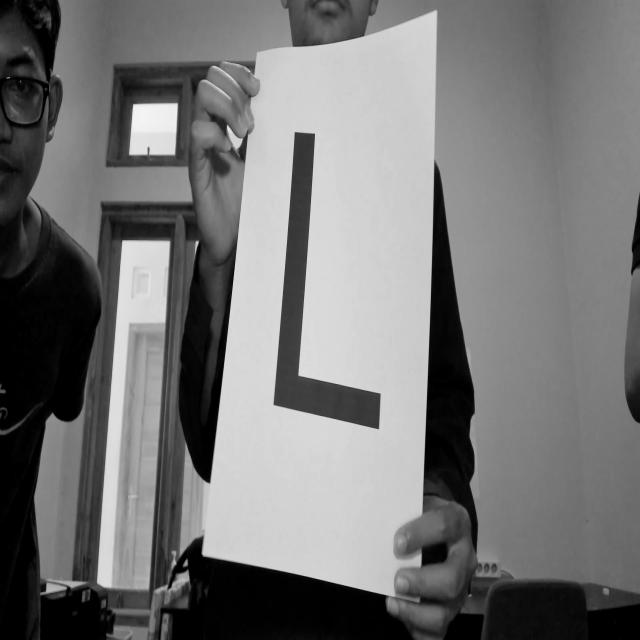l: (263, 108, 388, 459)
